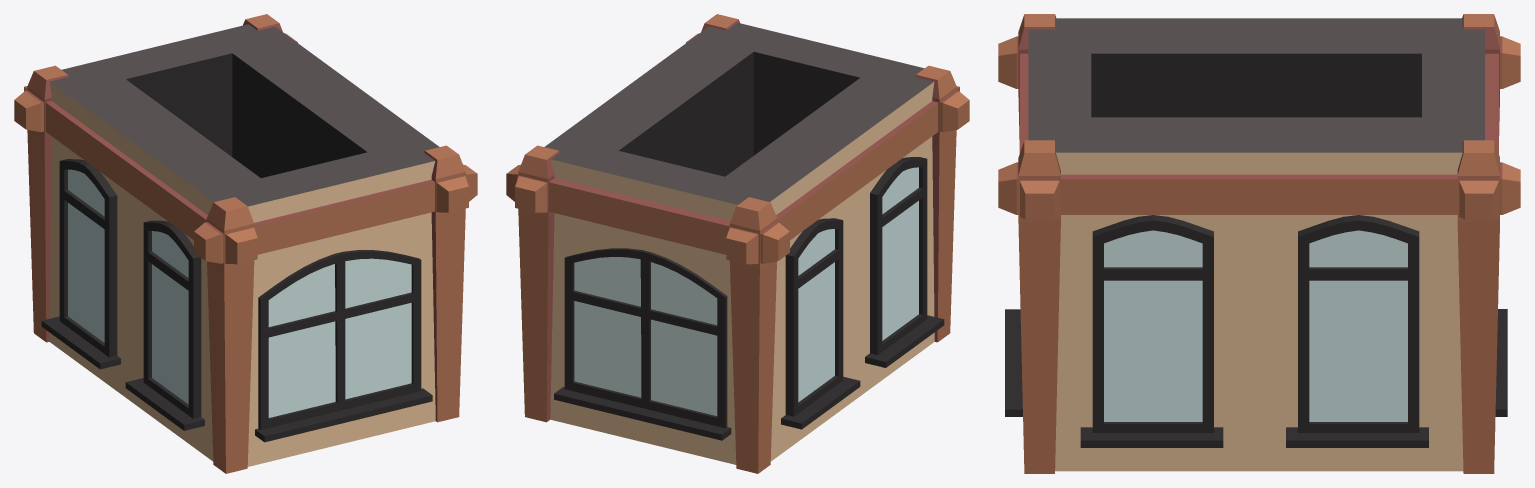
Rendered from Testhouse_Floor_Small.fbx.
3 renders of one model, left to right at view 1: azimuth 30°, elevation 25°; view 2: azimuth 150°, elevation 25°; view 3: azimuth 270°, elevation 25°, orthographic. The views are drawn at different scales.
Parts seen in each view (by area): view 1: Testhouse_FloorSmall; view 2: Testhouse_FloorSmall; view 3: Testhouse_FloorSmall.
Boxes of the visible parts, x1=… form: Testhouse_FloorSmall: x1=14, y1=14, x2=477, y2=473; Testhouse_FloorSmall: x1=506, y1=14, x2=969, y2=473; Testhouse_FloorSmall: x1=998, y1=14, x2=1520, y2=473.
Bounding box in the file's own units: 109 × 149 × 101.
